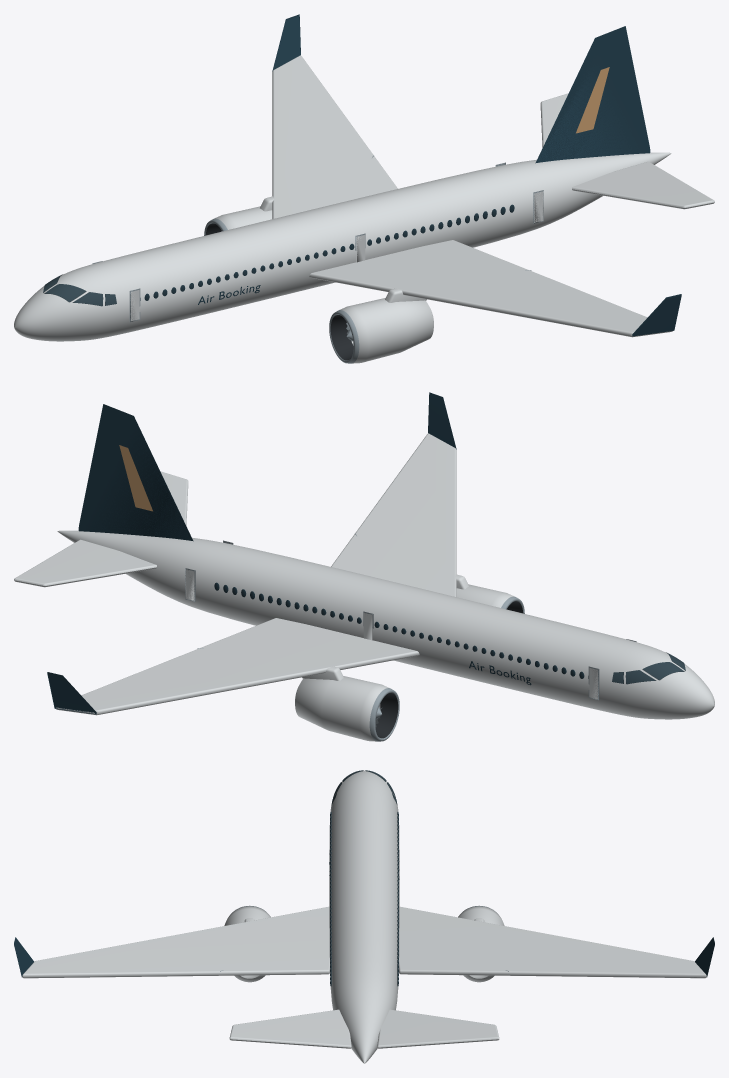
Rendered from aere-aircraft.glb.
3 renders of one model, top to bottom at view 1: azimuth 30°, elevation 25°; view 2: azimuth 150°, elevation 25°; view 3: azimuth 270°, elevation 25°, orthographic. The views are drawn at different scales.
Parts seen in each view (by area): view 1: Sculpted fuselage.002, Swept main wing.004, Swept main wing.005, Vertical tail.002, Turbofan nacelle.004, Horizontal stabilizer.004, Wingtip fin.004, Wingtip fin.005, Champagne tail slash.004, Turbofan nacelle.005, Dark intake tunnel.004, Horizontal stabilizer.005; view 2: Sculpted fuselage.002, Swept main wing.005, Swept main wing.004, Vertical tail.002, Turbofan nacelle.005, Horizontal stabilizer.005, Wingtip fin.005, Wingtip fin.004, Champagne tail slash.005, Turbofan nacelle.004, Dark intake tunnel.005, Horizontal stabilizer.004; view 3: Sculpted fuselage.002, Swept main wing.004, Swept main wing.005, Horizontal stabilizer.004, Horizontal stabilizer.005, Turbofan nacelle.004, Turbofan nacelle.005.
Part boxes in pixels (<box>): Sculpted fuselage.002: <box>14,152,671,341</box>; Swept main wing.004: <box>309,240,672,337</box>; Swept main wing.005: <box>272,55,397,218</box>; Vertical tail.002: <box>535,26,650,163</box>; Turbofan nacelle.004: <box>339,298,433,363</box>; Horizontal stabilizer.004: <box>572,161,714,209</box>; Wingtip fin.004: <box>632,294,681,336</box>; Wingtip fin.005: <box>272,14,300,71</box>; Champagne tail slash.004: <box>576,67,609,133</box>; Turbofan nacelle.005: <box>214,206,272,229</box>; Dark intake tunnel.004: <box>330,315,353,360</box>; Horizontal stabilizer.005: <box>540,93,567,147</box>; Sculpted fuselage.002: <box>57,530,714,719</box>; Swept main wing.005: <box>56,618,419,715</box>; Swept main wing.004: <box>331,433,456,596</box>; Vertical tail.002: <box>78,404,193,541</box>; Turbofan nacelle.005: <box>295,676,389,741</box>; Horizontal stabilizer.005: <box>14,539,156,587</box>; Wingtip fin.005: <box>47,672,96,714</box>; Wingtip fin.004: <box>428,392,456,449</box>; Champagne tail slash.005: <box>119,445,152,511</box>; Turbofan nacelle.004: <box>456,584,514,607</box>; Dark intake tunnel.005: <box>375,693,398,738</box>; Horizontal stabilizer.004: <box>161,471,188,525</box>; Sculpted fuselage.002: <box>329,770,399,1063</box>; Swept main wing.004: <box>22,906,329,978</box>; Swept main wing.005: <box>399,906,706,978</box>; Horizontal stabilizer.004: <box>229,1009,351,1048</box>; Horizontal stabilizer.005: <box>377,1009,499,1048</box>; Turbofan nacelle.004: <box>224,906,270,982</box>; Turbofan nacelle.005: <box>458,906,504,982</box>.
Bounding box in the file's own units: 22.15 × 6.7 × 22.3.
